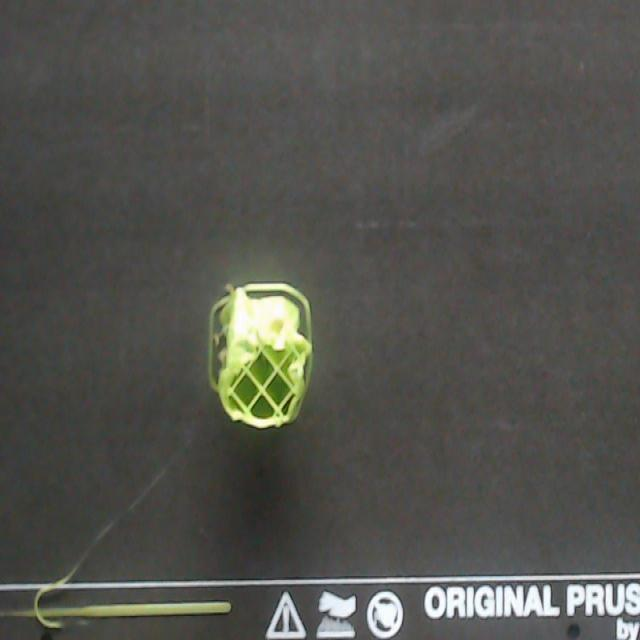mistake: (34, 560, 83, 628), (225, 281, 234, 293), (218, 332, 225, 343)
